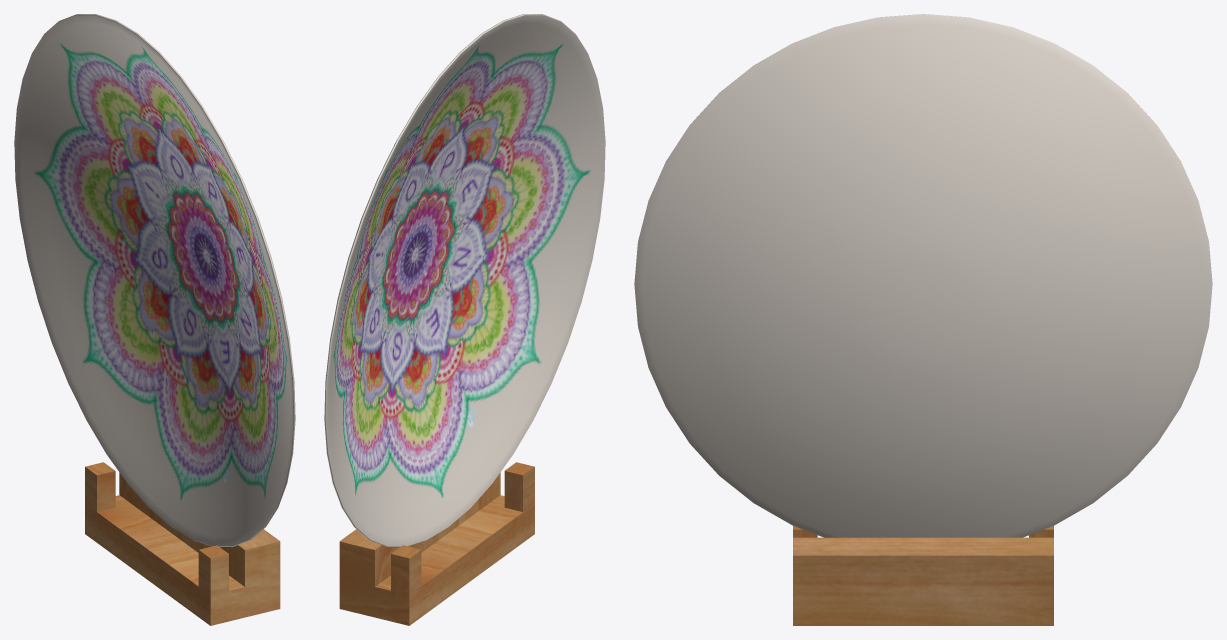
The model's file is plate---dish-dbba3c.glb.
3 renders of one model, left to right at view 1: azimuth 30°, elevation 25°; view 2: azimuth 150°, elevation 25°; view 3: azimuth 270°, elevation 25°, orthographic. The views are drawn at different scales.
Parts seen in each view (by area): view 1: PropMesh; view 2: PropMesh; view 3: PropMesh.
Part boxes in pixels (left/top/right/bottom): PropMesh: left=14, top=14, right=295, bottom=625; PropMesh: left=324, top=14, right=605, bottom=625; PropMesh: left=634, top=14, right=1212, bottom=625.
Size of the model in its own units: 0.3407 by 2.2 by 2.02.
2 materials, 2 textured.
